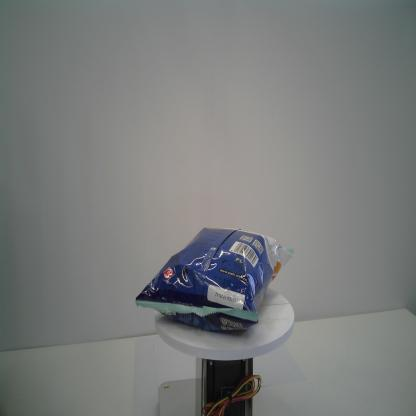Puffed Food: (135, 227, 294, 334)
